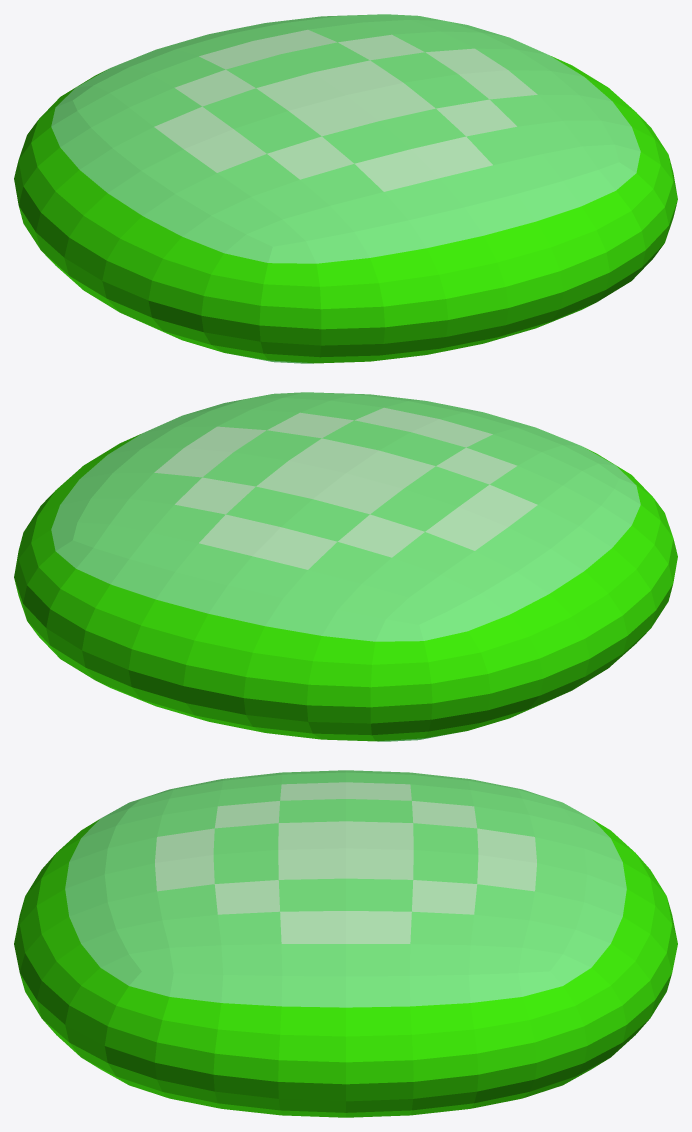
File: Cucumber Slices.fbx
3 views of the same model, one above another, from view 1: azimuth 30°, elevation 25°; view 2: azimuth 150°, elevation 25°; view 3: azimuth 270°, elevation 25° (orthographic). The views are drawn at different scales.
Parts seen in each view (by area): view 1: Cube; view 2: Cube; view 3: Cube.
Part boxes in pixels (bbox=[...]): Cube: bbox=[14, 14, 677, 363]; Cube: bbox=[14, 392, 677, 741]; Cube: bbox=[14, 770, 677, 1117].
Size of the model in its own units: 134 by 42.52 by 134.
